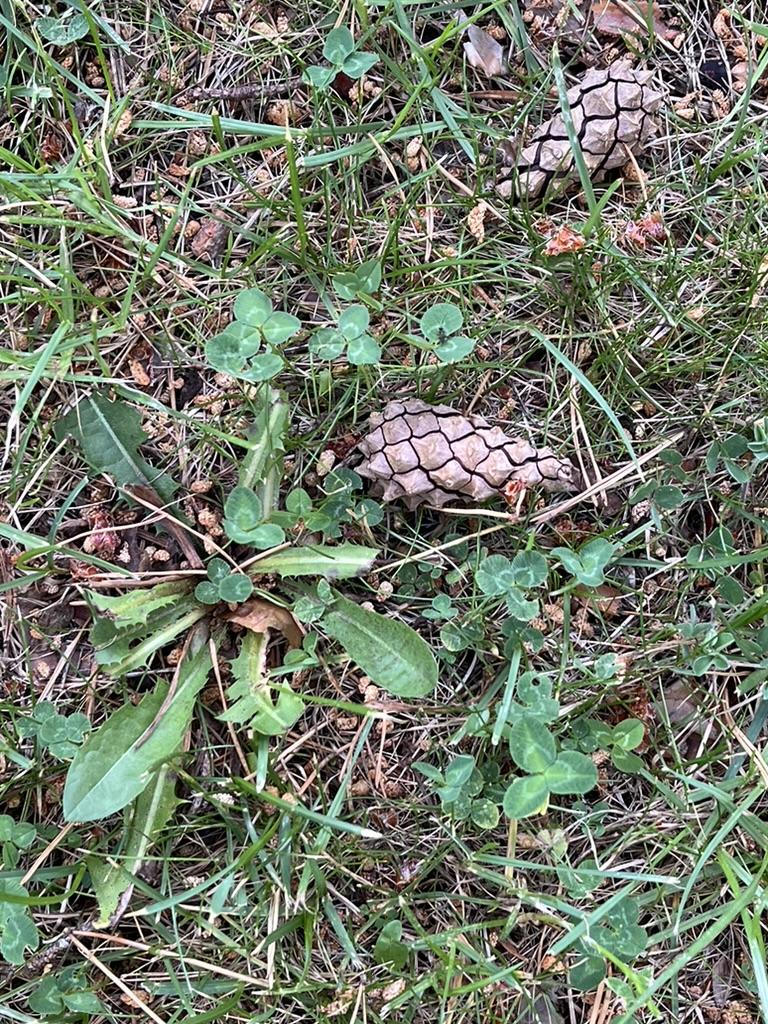pine: (491, 48, 688, 240), (344, 386, 601, 533)
